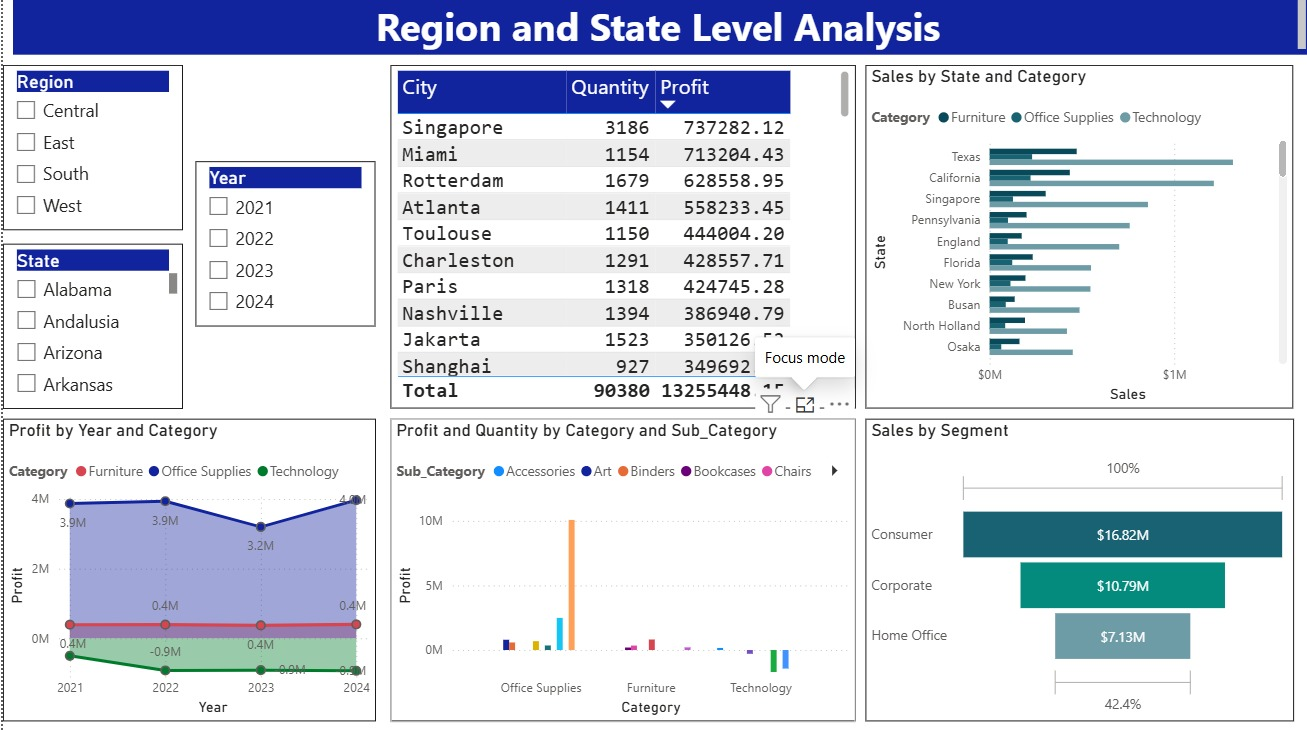

The page's visual inventory and layout, read from the dashboard file:
{"tool":"powerbi","page":{"name":"Region and State","canvas":[1280,720],"ordinal":1},"visuals":[{"type":"textbox","box":[10,0,1270,58.8],"z":0},{"type":"slicer","fields":{"Values":["Data Cleaning (2).Region"]},"box":[0,68.8,176.2,161.2],"z":1000},{"type":"slicer","fields":{"Values":["Data Cleaning (2).State"]},"box":[0,243.8,176.2,161.2],"z":2000},{"type":"slicer","fields":{"Values":["Data Cleaning (2).Year"]},"box":[188.8,162.5,176.2,161.2],"z":3000},{"type":"tableEx","fields":{"Values":["Data Cleaning (2).City","Sum(Data Cleaning (2).Quantity)","Sum(Data Cleaning (2).Profit)"]},"box":[378.8,68.8,455,336.2],"z":4000},{"type":"clusteredBarChart","fields":{"Category":["Data Cleaning (2).State"],"Series":["Data Cleaning (2).Category"],"Y":["Sum(Data Cleaning (2).Sales)"]},"box":[843.8,68.8,418.8,336.2],"z":5000},{"type":"areaChart","fields":{"Category":["Data Cleaning (2).Year"],"Series":["Data Cleaning (2).Category"],"Y":["Sum(Data Cleaning (2).Profit)"]},"box":[0,415,365,296.2],"z":6000},{"type":"lineClusteredColumnComboChart","fields":{"Category":["Data Cleaning (2).Category"],"Series":["Data Cleaning (2).Sub_Category"],"Y":["Sum(Data Cleaning (2).Profit)"]},"box":[378.8,415,455,296.2],"z":7000},{"type":"funnel","fields":{"Category":["Data Cleaning (2).Segment"],"Y":["Sum(Data Cleaning (2).Sales)"]},"box":[844,415,419,296],"z":8000}]}

Visuals, with their boxes in screenshot pixels (x1, y1, x2, y2), scaled from the page's 1280x720 canvas onto the 1307x730 screenshot:
textbox: (left=10, top=0, right=1306, bottom=60)
slicer - Data Cleaning (2).Region: (left=0, top=70, right=180, bottom=233)
slicer - Data Cleaning (2).State: (left=0, top=247, right=180, bottom=411)
slicer - Data Cleaning (2).Year: (left=193, top=165, right=373, bottom=328)
tableEx - Data Cleaning (2).City x Sum(Data Cleaning (2).Quantity): (left=387, top=70, right=851, bottom=411)
clusteredBarChart - Data Cleaning (2).State x Data Cleaning (2).Category: (left=862, top=70, right=1289, bottom=411)
areaChart - Data Cleaning (2).Year x Data Cleaning (2).Category: (left=0, top=421, right=373, bottom=721)
lineClusteredColumnComboChart - Data Cleaning (2).Category x Data Cleaning (2).Sub_Category: (left=387, top=421, right=851, bottom=721)
funnel - Data Cleaning (2).Segment x Sum(Data Cleaning (2).Sales): (left=862, top=421, right=1290, bottom=721)
